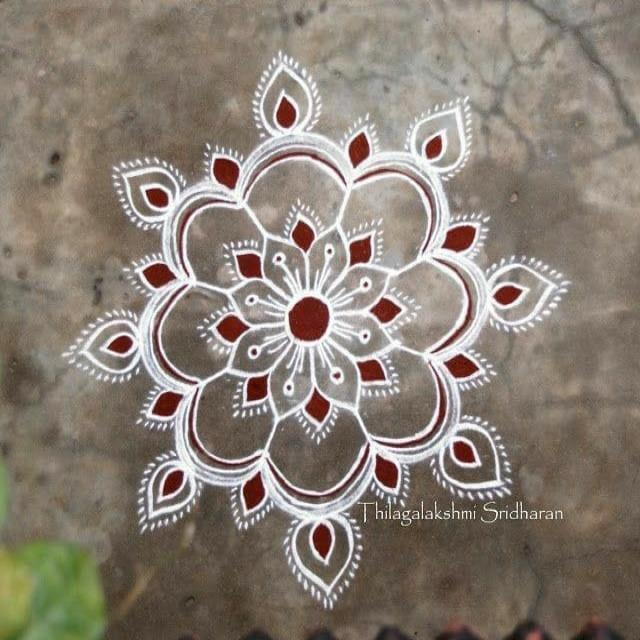rangoli: (53, 40, 582, 618)
